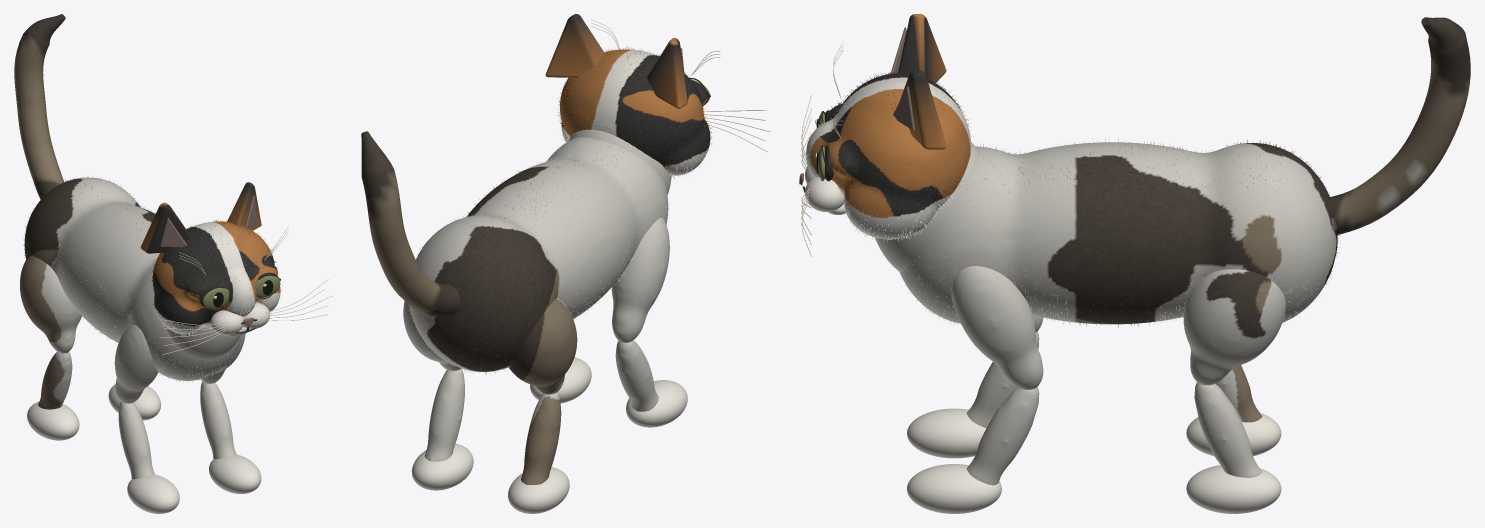
The model's file is mugi-tabby-white-v7.glb.
The picture shows the model from 3 angles, left to right: view 1: azimuth 30°, elevation 25°; view 2: azimuth 150°, elevation 25°; view 3: azimuth 270°, elevation 25°; orthographic projection. The views are drawn at different scales.
Parts seen in each view (by area): view 1: Walking_Torso, Head_Sculpt, Walking tail, Hindleg_HL, Foreleg_FL, Foreleg_lower_FL, Foreleg_lower_FR, Paw_FL, Paw_FR, Paw_HL, Neck, Hindleg_lower_HL (+8 smaller); view 2: Walking_Torso, Head_Sculpt, Walking tail, Foreleg_FL, Hindleg_HL, Hindleg_lower_HL, Hindleg_lower_HR, Ear_R, Foreleg_lower_FL, Paw_HR, Paw_HL, Ear_L (+6 smaller); view 3: Walking_Torso, Head_Sculpt, Walking tail, Hindleg_HR, Foreleg_FR, Foreleg_lower_FR, Hindleg_lower_HR, Paw_FR, Paw_HR, Paw_FL, Neck, Ear_L (+7 smaller).
Part boxes in pixels (box(x1,y1,x2,y2)): Walking_Torso: box(24, 177, 242, 380); Head_Sculpt: box(152, 221, 280, 333); Walking tail: box(14, 14, 65, 199); Hindleg_HL: box(20, 256, 81, 353); Foreleg_FL: box(114, 324, 158, 403); Foreleg_lower_FL: box(118, 401, 154, 479); Foreleg_lower_FR: box(200, 381, 236, 459); Paw_FL: box(127, 474, 179, 513); Paw_FR: box(209, 454, 261, 493); Paw_HL: box(27, 401, 79, 440); Neck: box(165, 326, 240, 359); Hindleg_lower_HL: box(38, 351, 72, 409); Walking_Torso: box(410, 137, 668, 371); Head_Sculpt: box(560, 49, 710, 175); Walking tail: box(361, 131, 460, 316); Foreleg_FL: box(611, 218, 669, 342); Hindleg_HL: box(509, 298, 577, 394); Hindleg_lower_HL: box(521, 392, 561, 484); Hindleg_lower_HR: box(424, 368, 464, 461); Ear_R: box(545, 14, 604, 77); Foreleg_lower_FL: box(615, 340, 658, 411); Paw_HR: box(411, 443, 473, 490); Paw_HL: box(508, 467, 569, 513); Ear_L: box(647, 38, 687, 109); Walking_Torso: box(899, 142, 1337, 324); Head_Sculpt: box(806, 73, 971, 239); Walking tail: box(1328, 17, 1470, 235); Hindleg_HR: box(1183, 269, 1285, 385); Foreleg_FR: box(951, 266, 1043, 389); Foreleg_lower_FR: box(966, 387, 1039, 485); Hindleg_lower_HR: box(1194, 382, 1262, 477); Paw_FR: box(907, 464, 1001, 513); Paw_HR: box(1186, 465, 1281, 513); Paw_FL: box(907, 408, 986, 458); Neck: box(875, 142, 978, 272); Ear_L: box(898, 14, 946, 83).
Size of the model in its own units: 0.9956 by 1.93 by 2.4.
